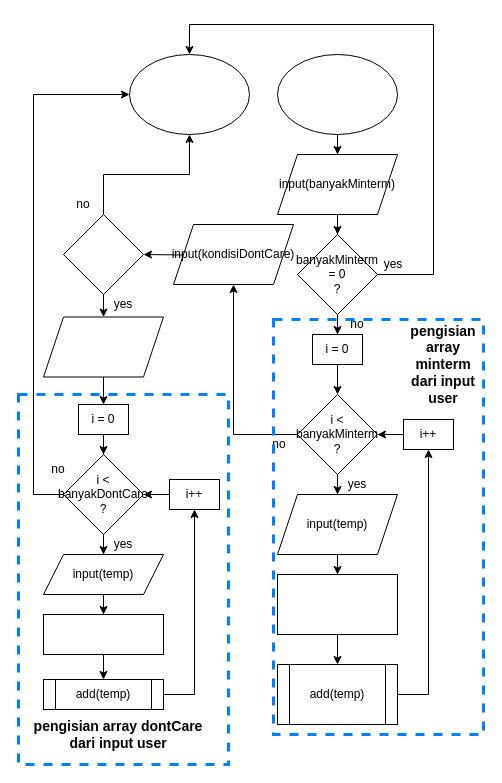
Image size: 502x783. Some labels were removed from this diagram. The shapes that lost their labels are listed below. From the top down, each one's centre as x and y in pixels, then its label:
At point 189,94: "FINISH".
At point 337,94: "START".
At point 103,254: "kondisiDontCare = 1?".
At point 103,346: "input(banyakDontCare)".
At point 337,604: "minterms[temp] <- 1".
At point 103,634: "dontCare[temp] <- 1".
